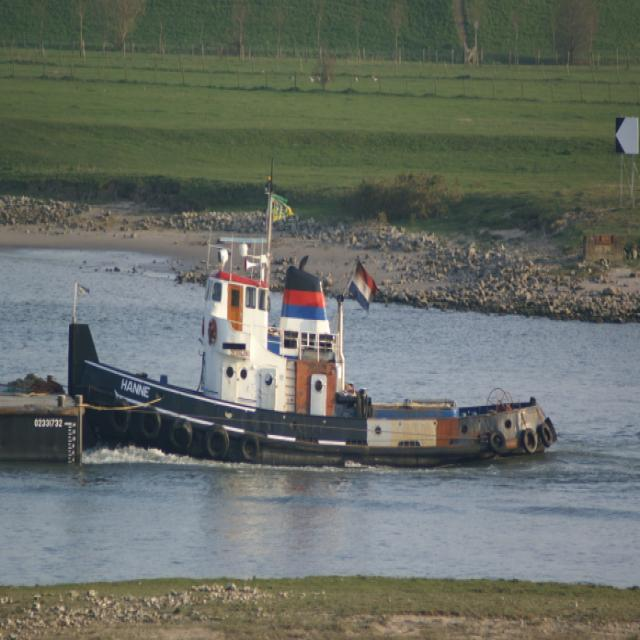tugboat: (65, 224, 570, 491)
